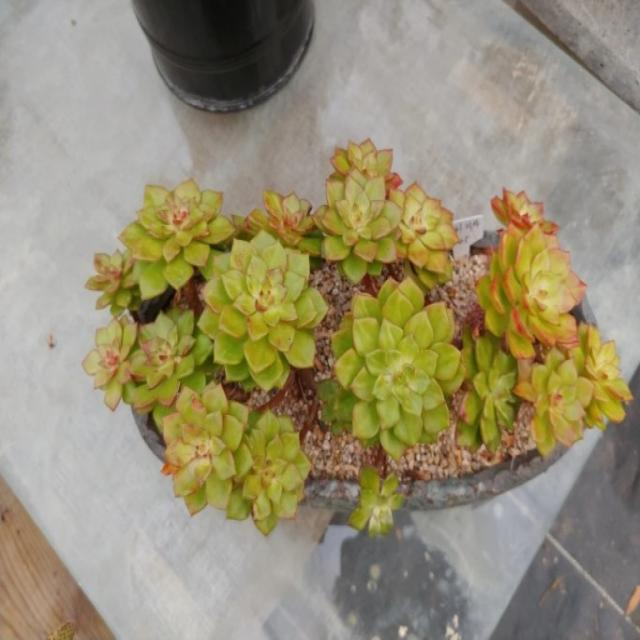Letizia: (320, 278, 464, 458), (199, 230, 328, 391), (476, 190, 585, 359), (120, 180, 232, 298), (162, 384, 248, 514), (226, 410, 310, 534), (316, 168, 400, 281), (514, 349, 592, 456), (236, 190, 321, 256)
